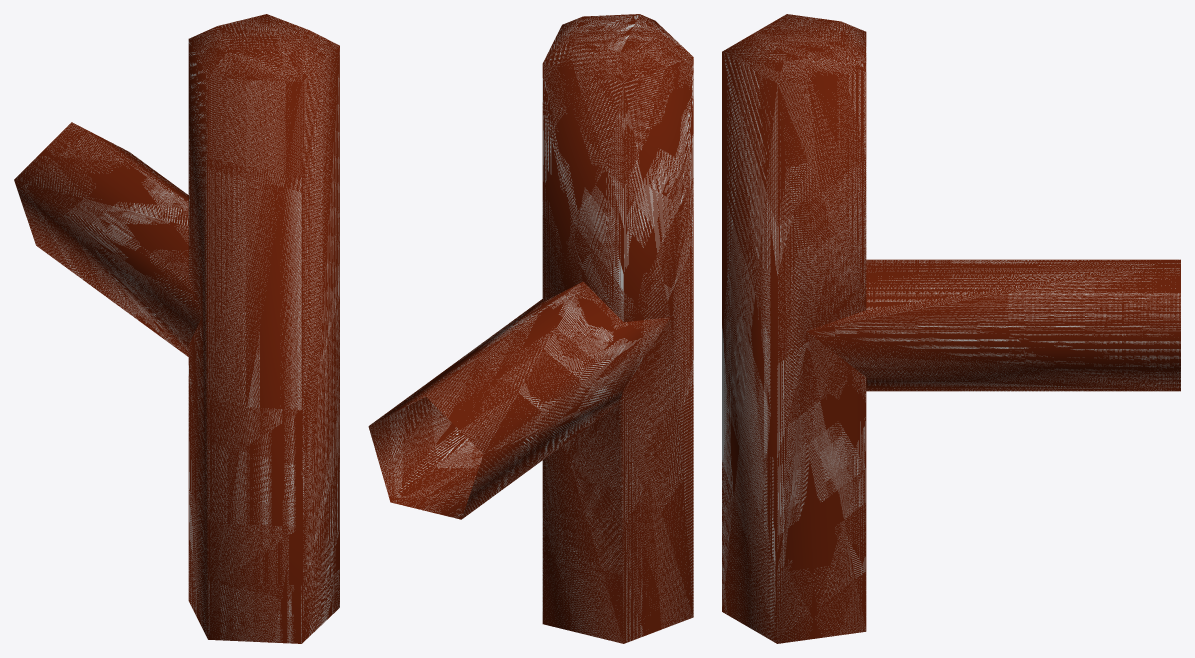
The model's file is original-25.obj.
3 renders of one model, left to right at view 1: azimuth 30°, elevation 25°; view 2: azimuth 150°, elevation 25°; view 3: azimuth 270°, elevation 25°, orthographic.
Visible parts, largest first — view 1: BPe27_1/BPe27/mesh15/mesh15-geometry#mesh15-geometry; view 2: BPe27_1/BPe27/mesh15/mesh15-geometry#mesh15-geometry; view 3: BPe27_1/BPe27/mesh15/mesh15-geometry#mesh15-geometry.
Boxes of the visible parts, x1=… form: BPe27_1/BPe27/mesh15/mesh15-geometry#mesh15-geometry: x1=14, y1=14, x2=339, y2=643; BPe27_1/BPe27/mesh15/mesh15-geometry#mesh15-geometry: x1=368, y1=14, x2=693, y2=643; BPe27_1/BPe27/mesh15/mesh15-geometry#mesh15-geometry: x1=722, y1=14, x2=1180, y2=643.
Size of the model in its own units: 0.00999 by 0.042 by 0.0302.
